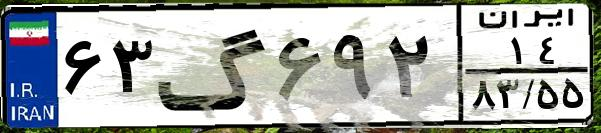1: (508, 27, 537, 80)
2: (385, 28, 445, 110)
3: (110, 28, 156, 98), (495, 70, 520, 125)
4: (537, 27, 568, 80)
5: (560, 70, 590, 125), (535, 70, 560, 125)
6: (270, 28, 330, 110), (57, 26, 110, 100)
8: (470, 70, 495, 125)
9: (330, 28, 385, 110)
گ: (156, 12, 270, 120)
